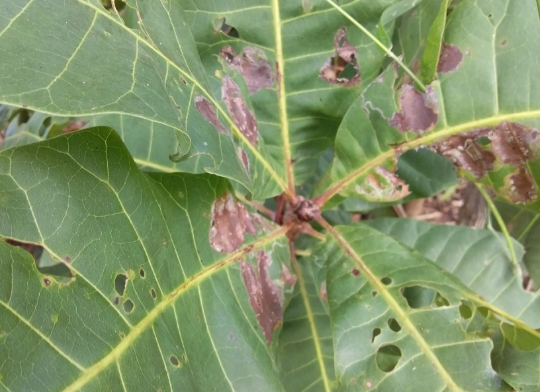Dysdercus wolkerii: (1, 172, 299, 387)
